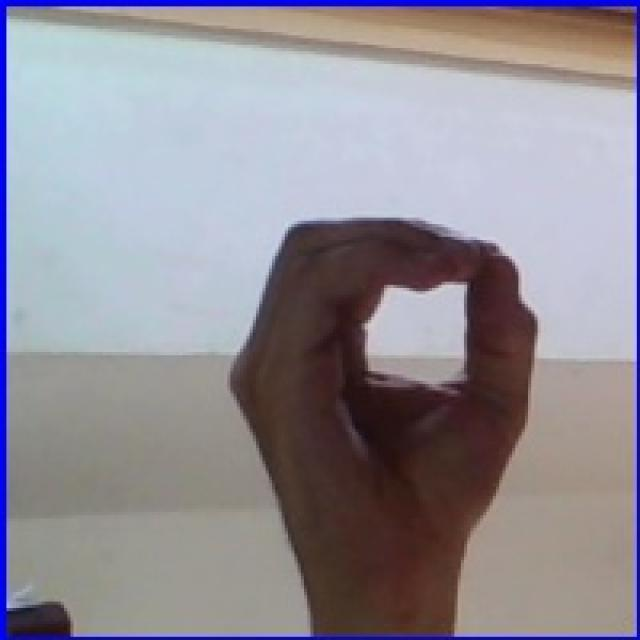Letra-O: (205, 199, 566, 640)
